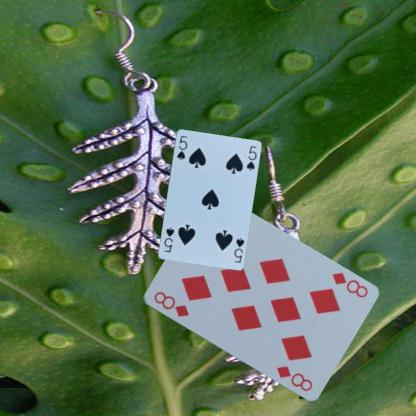5s: (231, 235, 246, 264), (174, 133, 188, 161)
8d: (328, 270, 368, 299), (151, 289, 190, 318)
